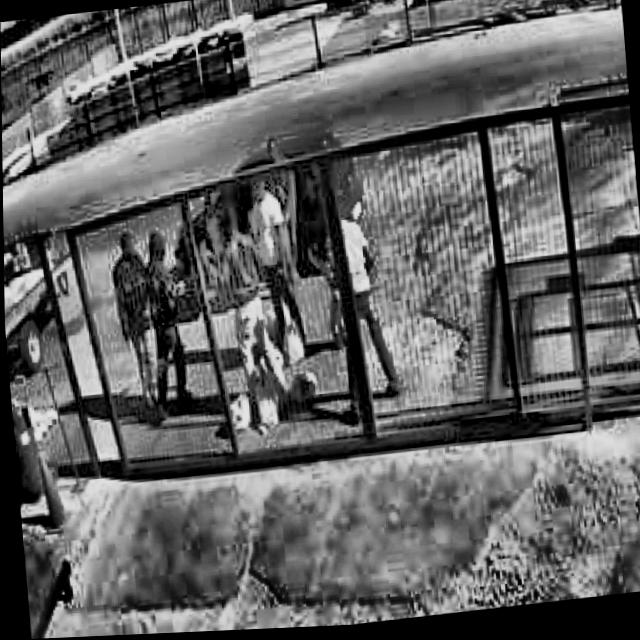robbery: (101, 159, 406, 459)
